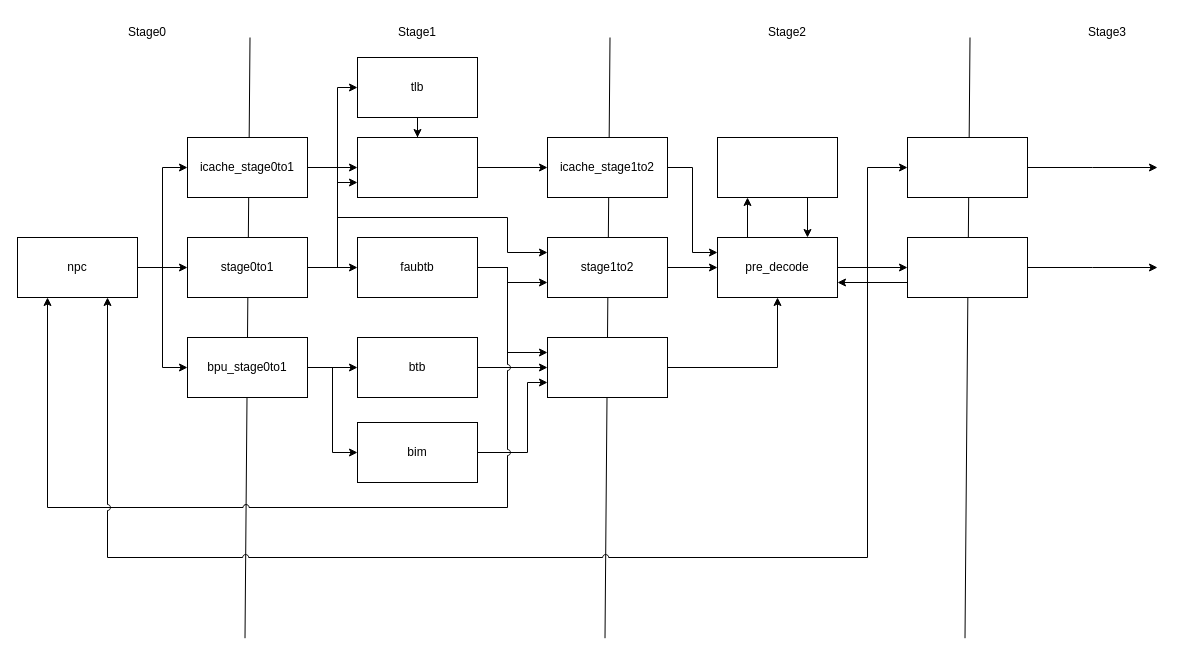
The diagram is 1183 pixels wide and 657 high, and some of its shapes have lost their labels. The shapes that lost their labels are listed below. From the top down, each one's centre as x and y in pixels, then its label:
At (417,167): "icache_stage1".
At (777,167): "ras".
At (967,167): "fb".
At (967,267): "ftq".
At (607,367): "bpu_stage1to2".
